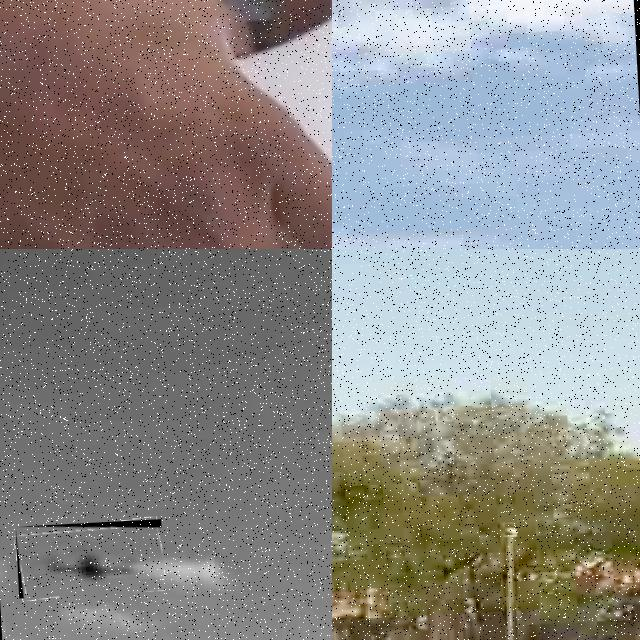0: (15, 519, 165, 599)
drone: (0, 0, 332, 249)
